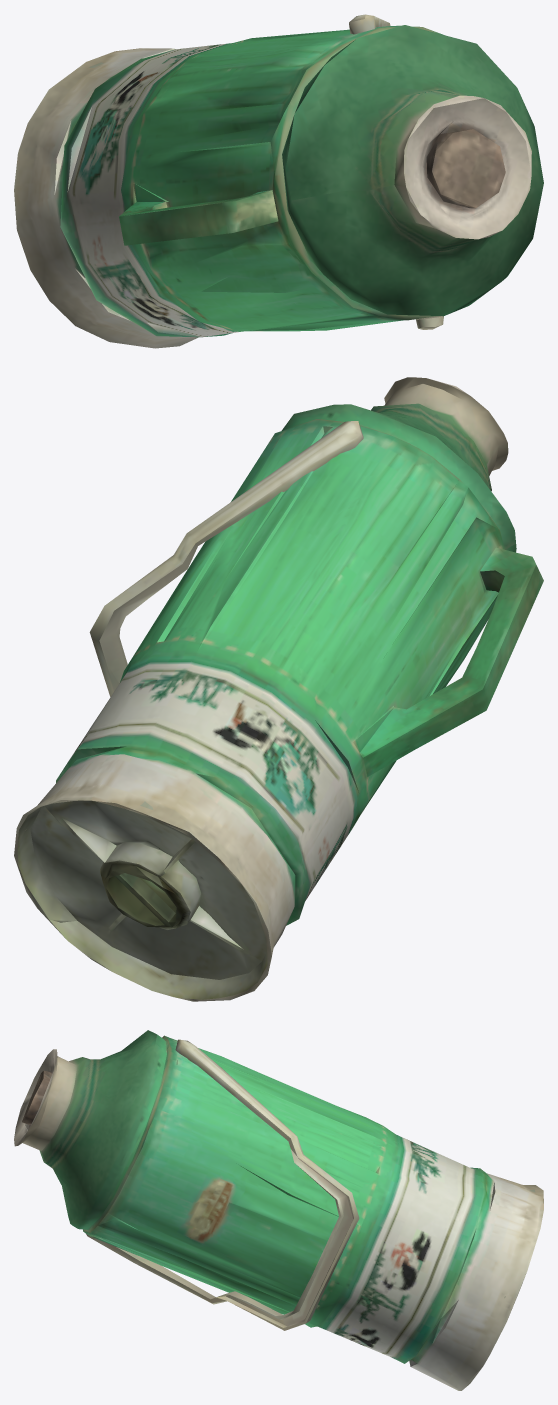
Rendered from ref_thermosbottle.glb.
3 views of the same model, one above another, from view 1: azimuth 30°, elevation 25°; view 2: azimuth 150°, elevation 25°; view 3: azimuth 270°, elevation 25° (orthographic). The views are drawn at different scales.
Parts seen in each view (by area): view 1: ref_thermosbottle_part0; view 2: ref_thermosbottle_part0; view 3: ref_thermosbottle_part0.
Part boxes in pixels (x1,y1,x2,y2): ref_thermosbottle_part0: [14, 14, 543, 348]; ref_thermosbottle_part0: [14, 377, 543, 1001]; ref_thermosbottle_part0: [14, 1030, 543, 1390].
Size of the model in its own units: 0.549 by 0.7074 by 1.
Materials: 1 (1 with a texture image).
